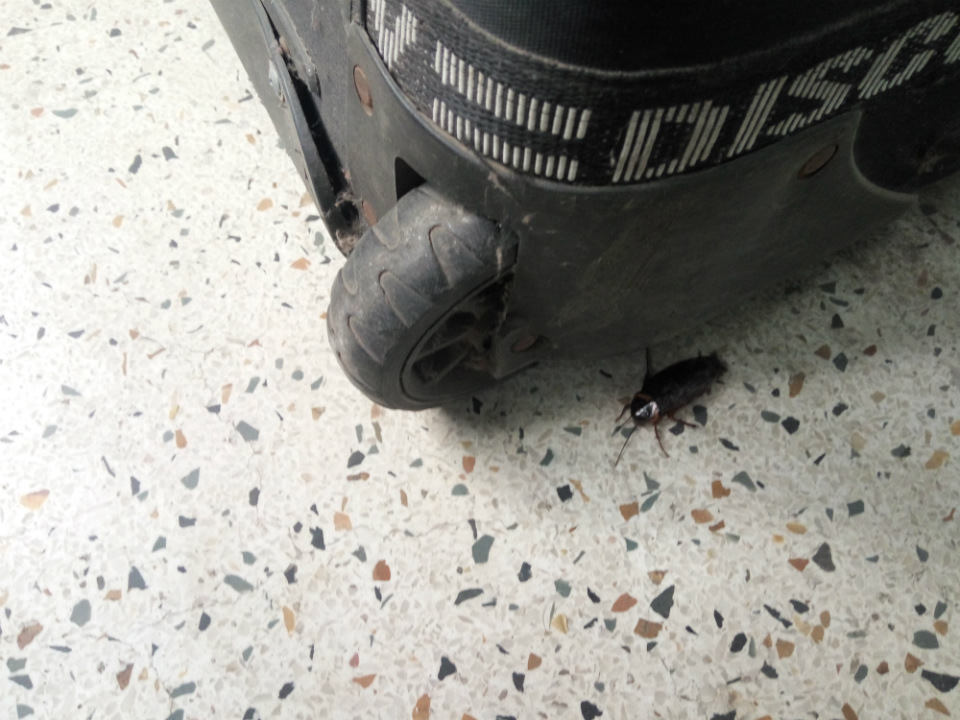cockroach: (597, 307, 744, 474)
